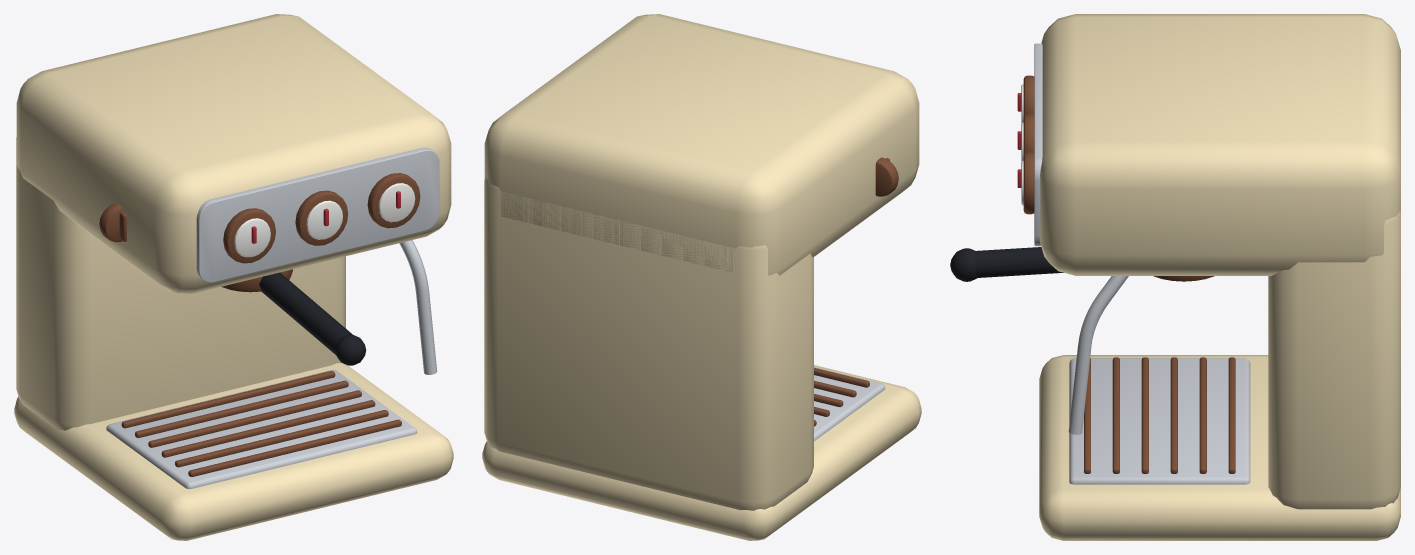
Rendered from cafeteira_expresso_creme.glb.
3 views of the same model, side by side, from view 1: azimuth 30°, elevation 25°; view 2: azimuth 150°, elevation 25°; view 3: azimuth 270°, elevation 25° (orthographic). The views are drawn at different scales.
Visible parts, largest first — view 1: cafeteira_expresso_creme; view 2: cafeteira_expresso_creme; view 3: cafeteira_expresso_creme.
Boxes of the visible parts, x1,y1,x2,y2 form: cafeteira_expresso_creme: (14,14,453,540); cafeteira_expresso_creme: (482,14,921,540); cafeteira_expresso_creme: (950,14,1400,540).
Size of the model in its own units: 0.322 by 0.36 by 0.374.
Materials: 1 (1 with a texture image).
